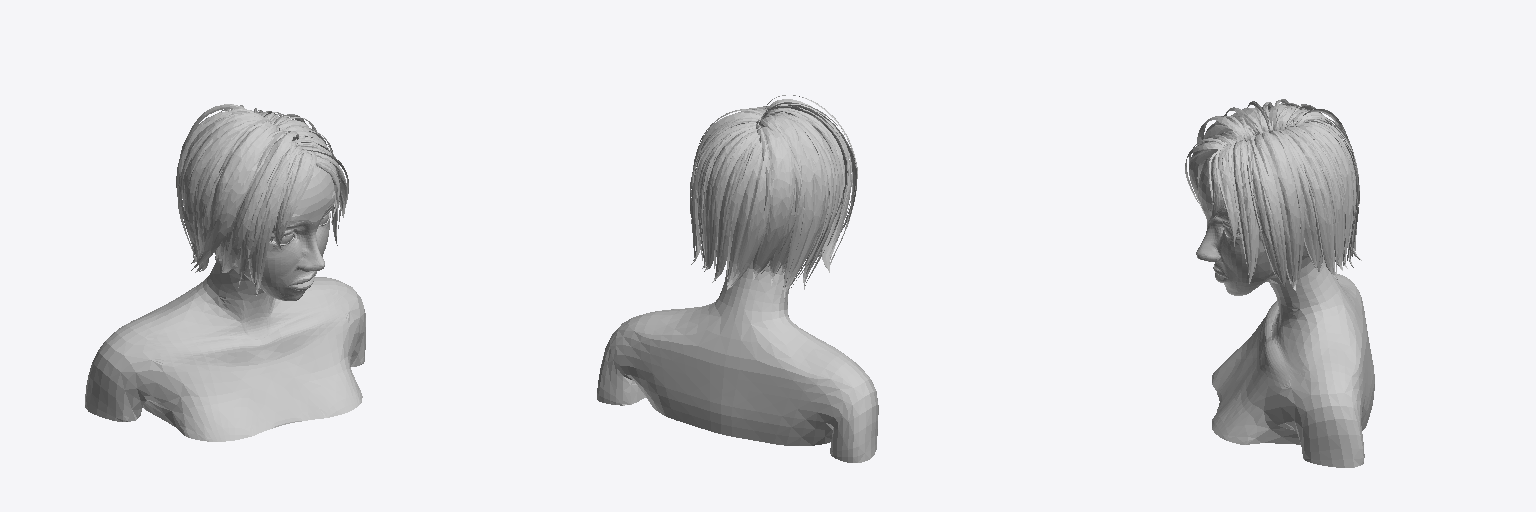
Rendered from gynoidUpper.obj.
3 views of the same model, side by side, from view 1: azimuth 30°, elevation 25°; view 2: azimuth 150°, elevation 25°; view 3: azimuth 270°, elevation 25° (orthographic).
Visible parts, largest first — view 1: Gynoid_Cube; view 2: Gynoid_Cube; view 3: Gynoid_Cube.
Part boxes in pixels (x1,y1,x2,y2): Gynoid_Cube: (85, 104, 365, 441); Gynoid_Cube: (597, 95, 878, 462); Gynoid_Cube: (1185, 99, 1374, 467).
Size of the model in its own units: 342 by 354 by 208.